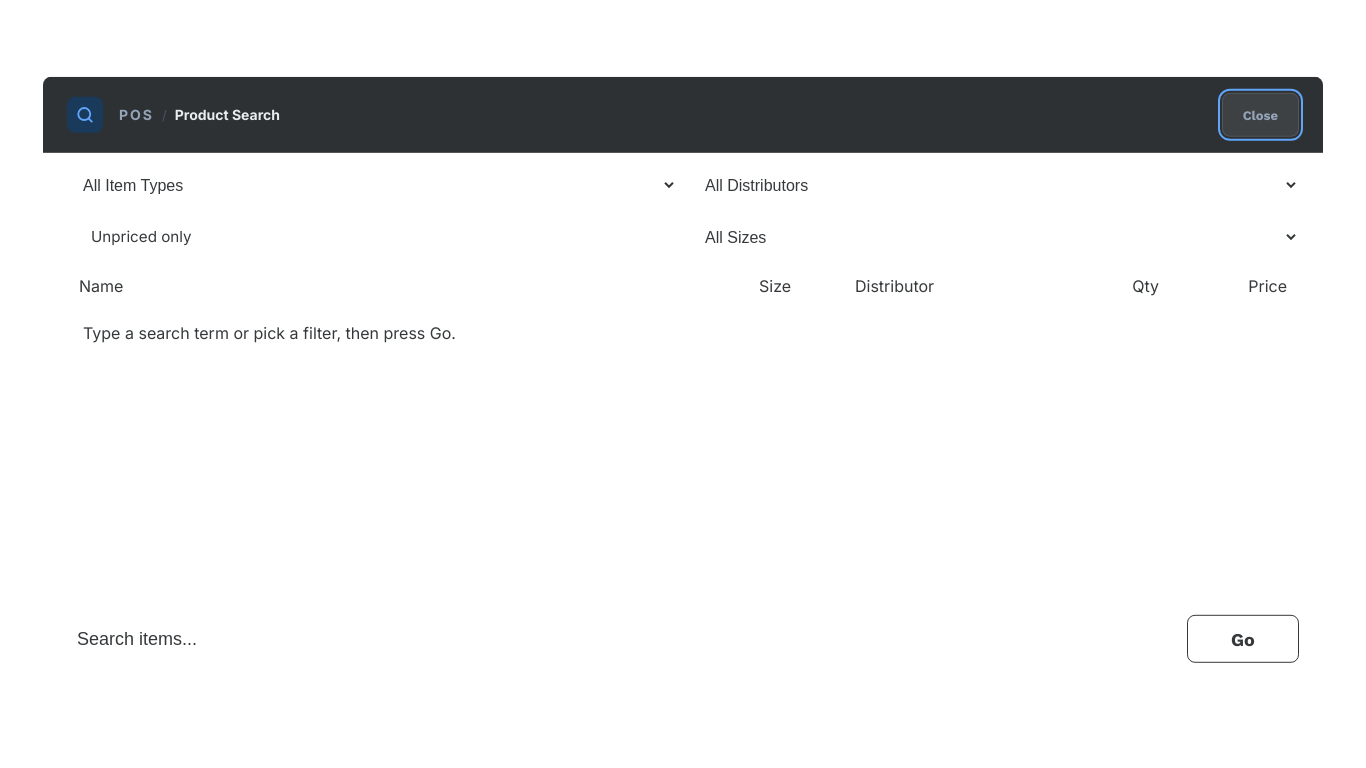
Test case: SearchModal › highlights selected item and shows action buttons
The width and height of the screenshot is (1366, 768).
In the field with placeholder "Search items...": (623, 639) [67,615,1179,663], type "cab"
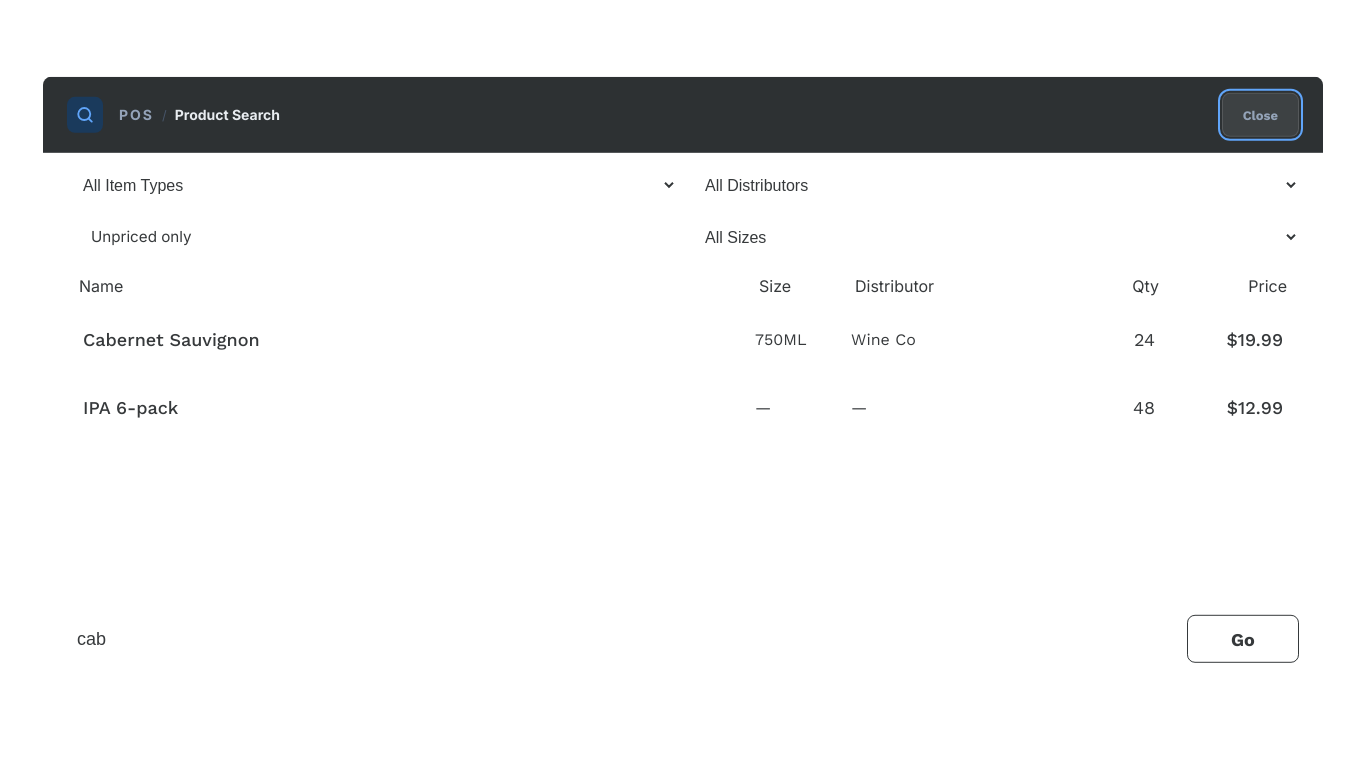
Click the button "Go": (1243, 639) [1187,615,1299,663]
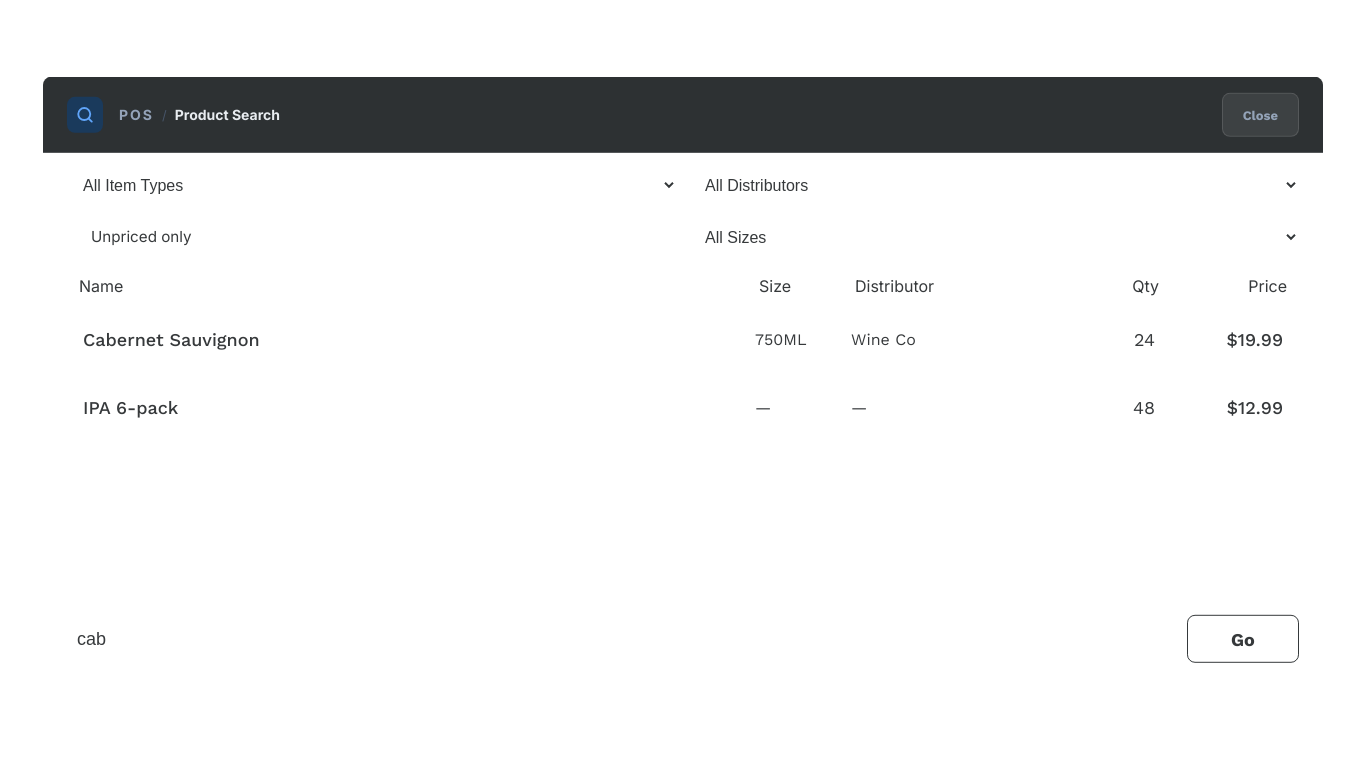
Result: the text "Cabernet Sauvignon" is shown at [83,328,260,349]
Click the button with test id "search-result-1": (171, 339) [67,305,1299,373]
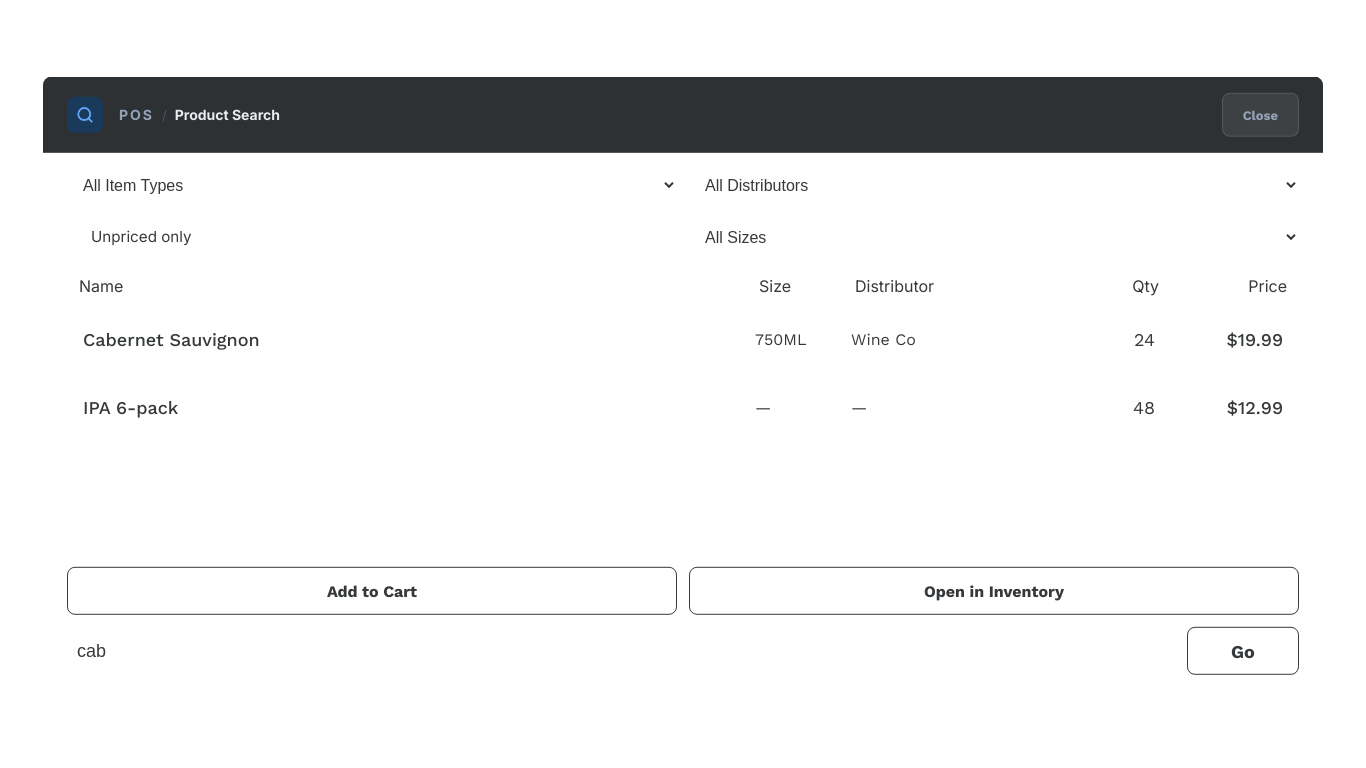
Result: the button "Add to Cart" is shown at [67,567,677,615]
Result: the button "Open in Inventory" is shown at [689,567,1299,615]
